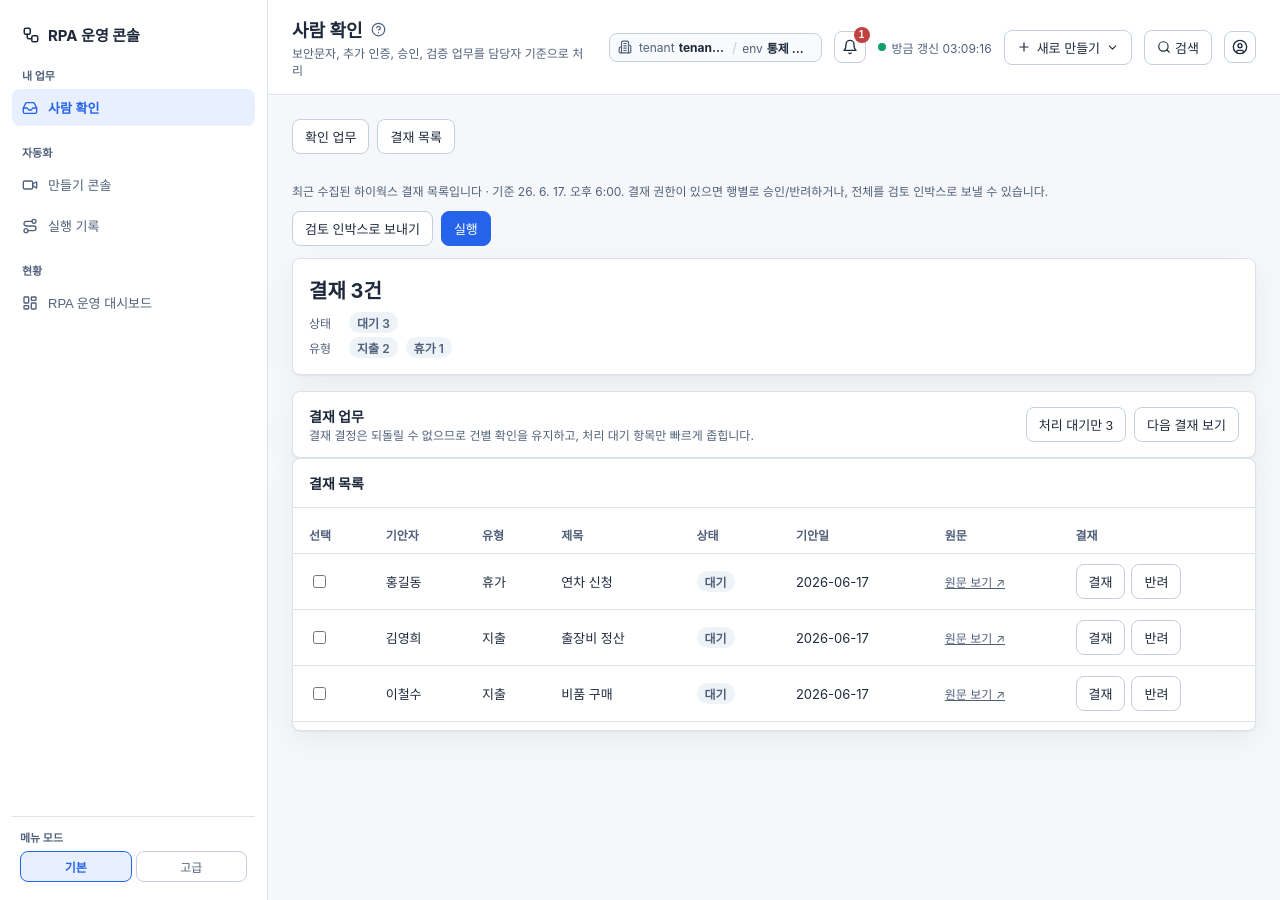
Test case: 결재 인박스 — 건별 결재(2c) › approver → 2건 선택 → 일괄 승인 → 배치 확인 → decideApproval 2회(approve) → 두 행 처리 상태
The width and height of the screenshot is (1280, 900).
Expected: the text "연차 신청" is shown, [545,554,680,610]
What coordinates should you click on to do the following:
click the checkbox named "연차 신청 일괄 승인 선택"
I would click on:
 (320, 582)
Its box is [313,575,326,588].
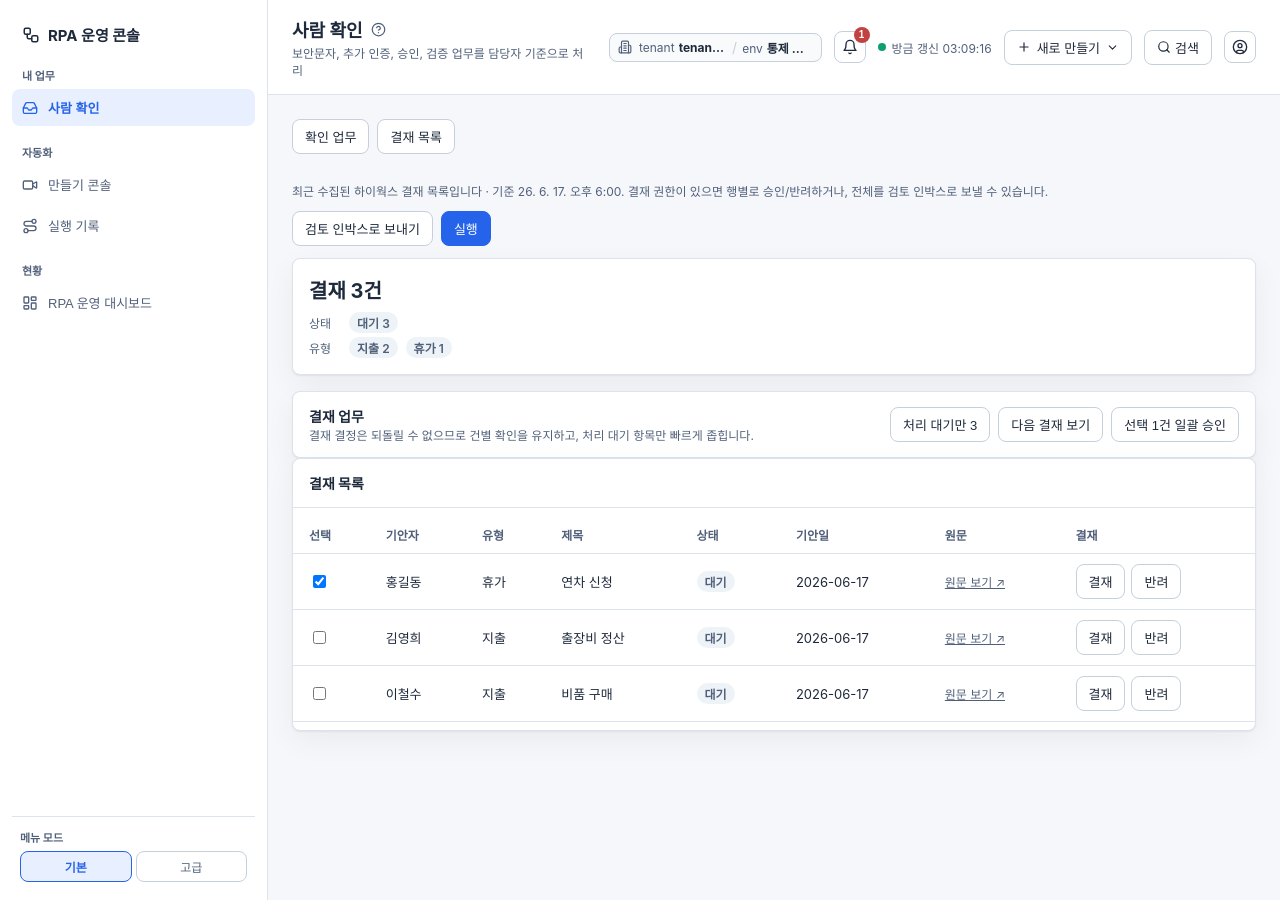
What coordinates should you click on to do the following:
click the checkbox named "출장비 정산 일괄 승인 선택"
I would click on:
 (320, 638)
Its box is [313,631,326,644].
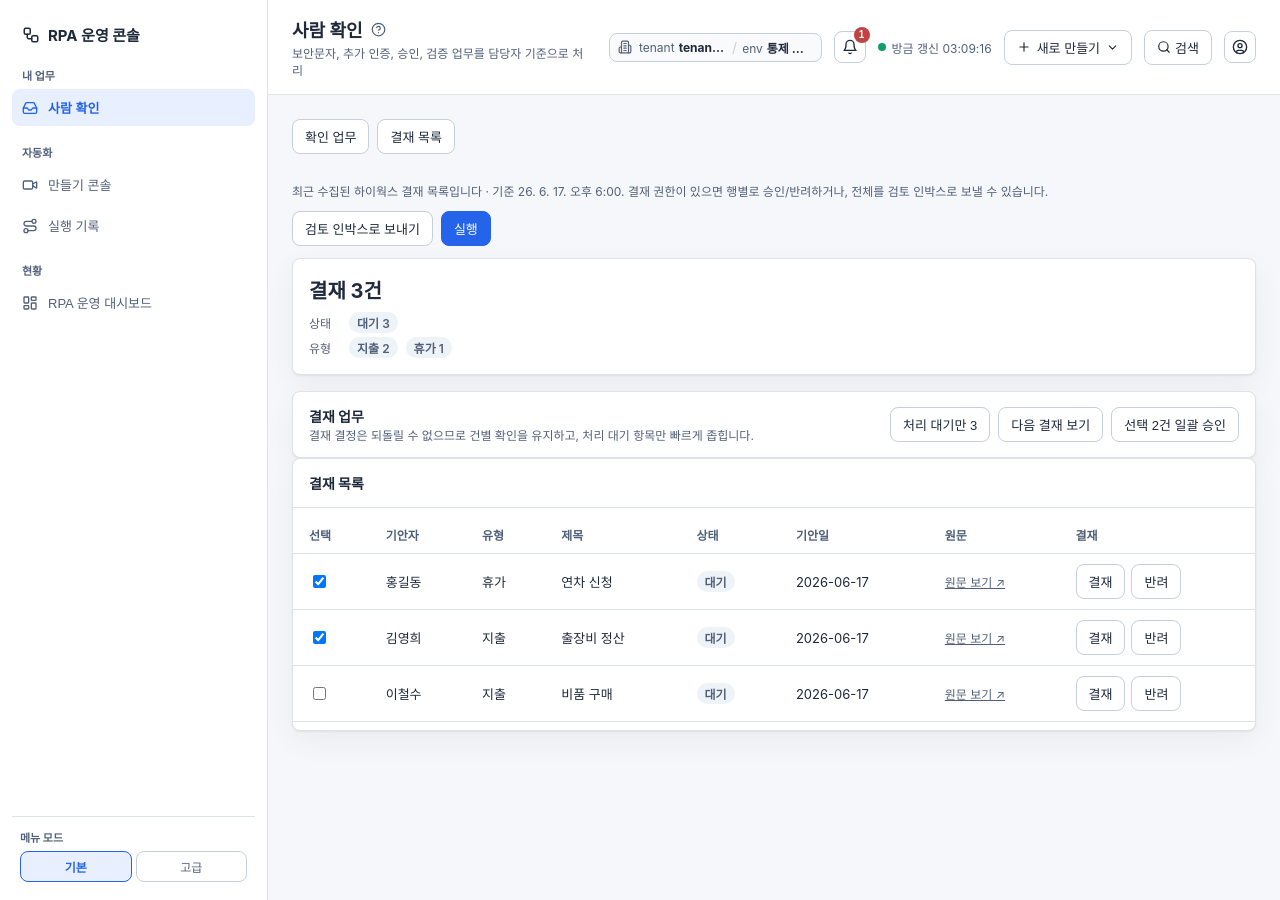
What coordinates should you click on to do the following:
click the button "선택 2건 일괄 승인"
I would click on:
 (1175, 424)
Its box is [1111,407,1239,442].
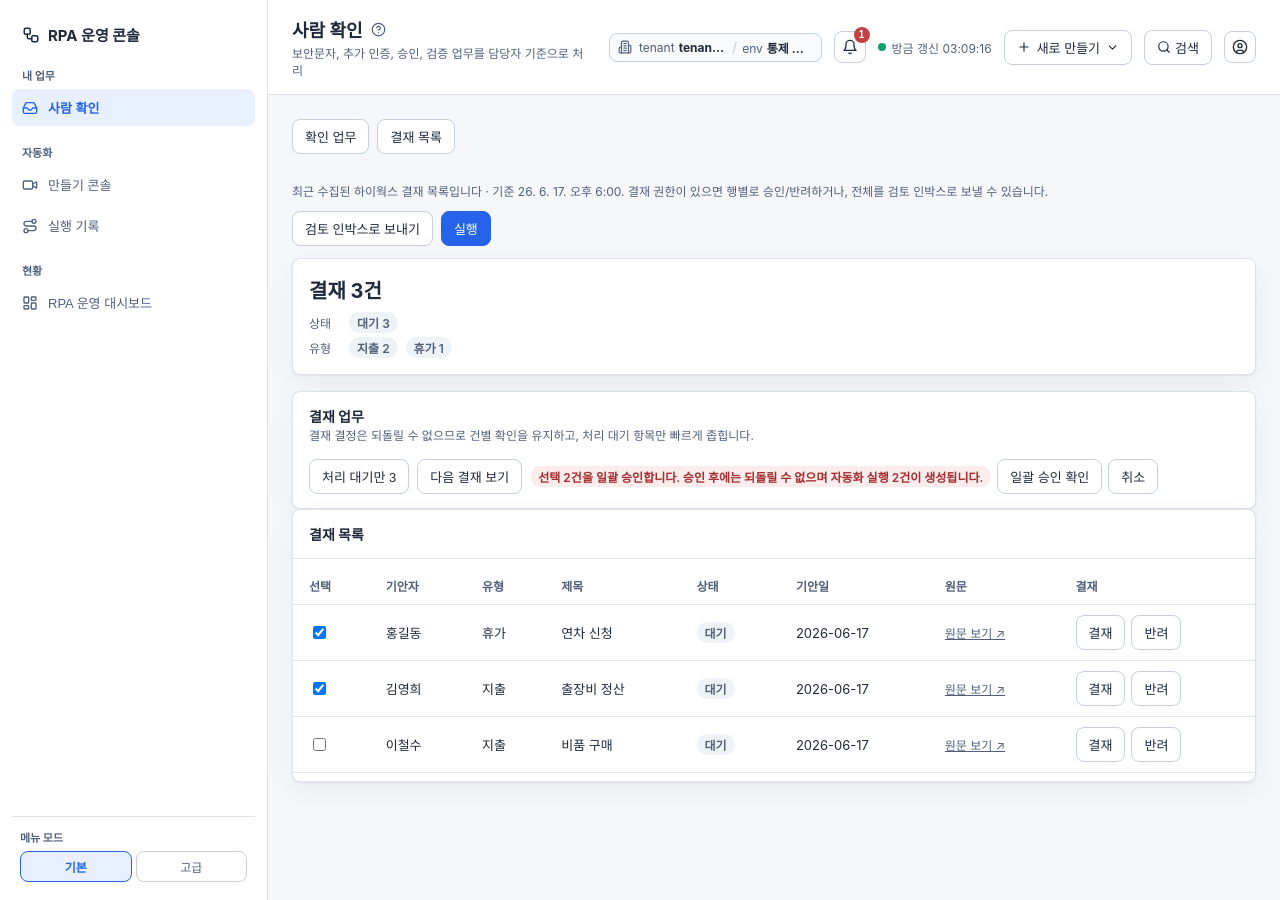
Result: the text "선택 2건을 일괄 승인합니다. 승인 후에는 되돌릴 수 없으며 자동화 실행 2건이 생성됩니다." is shown at [530,466,991,487]
What coordinates should you click on to do the following:
click the button "일괄 승인 확인"
I would click on:
 (1050, 476)
Its box is [997,459,1102,494].
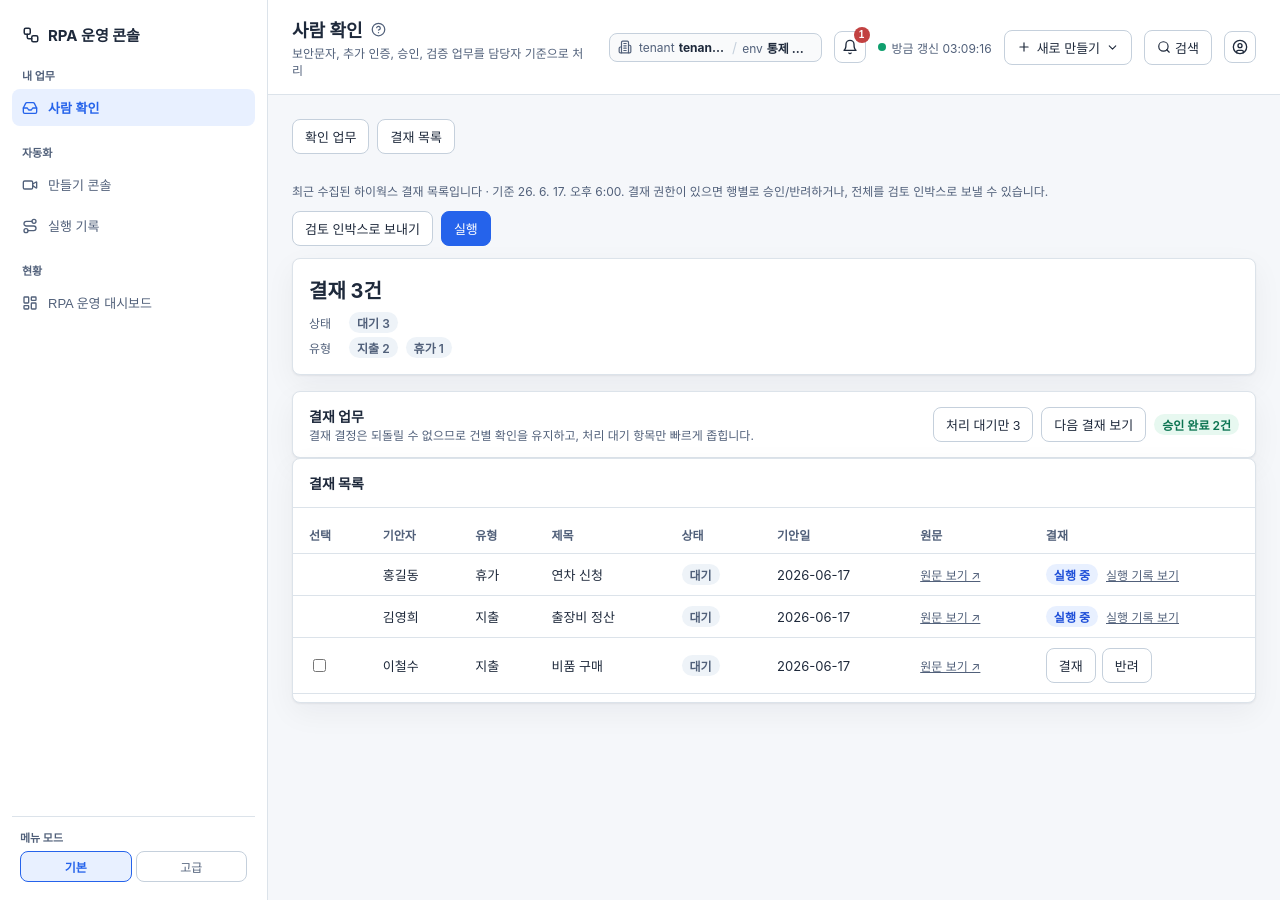
Expected: the text "비품 구매" is shown, [535,638,666,694]
Result: the number of links "실행 기록 보기" is 2 at [1106,566,1179,583]; [1106,608,1179,625]
Result: the text "승인 완료 2건" is shown at [1154,414,1239,435]
